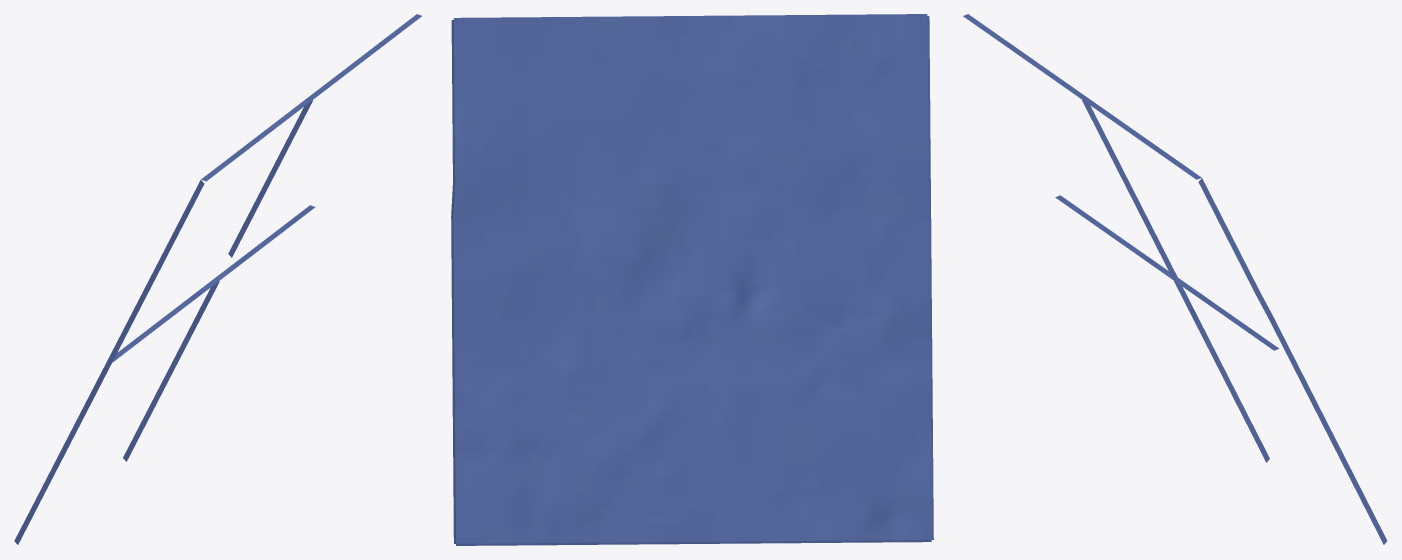
The picture shows the model from 3 angles, left to right: view 1: azimuth 30°, elevation 25°; view 2: azimuth 150°, elevation 25°; view 3: azimuth 270°, elevation 25°; orthographic projection. The views are drawn at different scales.
Size of the model in its own units: 39410 by 35725 by 33280.
1 material, 1 textured.
